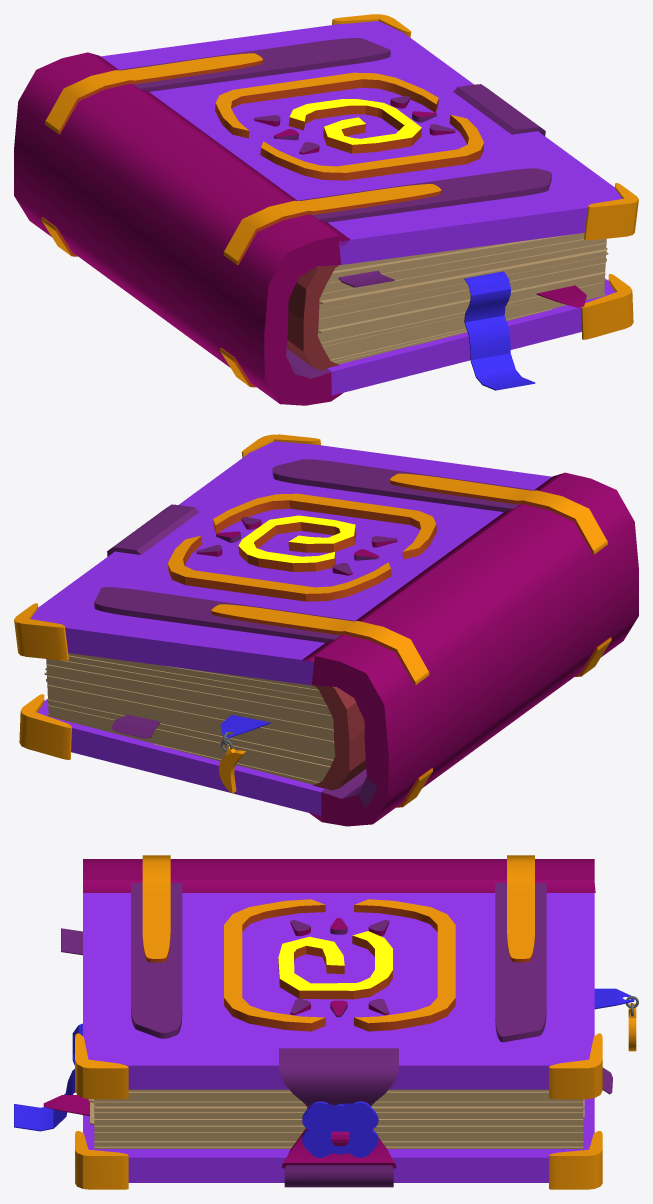
File: FireMagicBook.fbx
3 renders of one model, top to bottom at view 1: azimuth 30°, elevation 25°; view 2: azimuth 150°, elevation 25°; view 3: azimuth 270°, elevation 25°, orthographic. The views are drawn at different scales.
Visible parts, largest first — view 1: Cube, Cube.002, Plane.004, Plane.001, Plane.003, Cube.004, Plane, Plane.002, Cube.003, Plane.010, Cube.009, Plane.007 (+1 smaller); view 2: Cube, Cube.002, Plane.004, Plane.001, Plane.003, Cube.004, Plane.002, Cube.003, Plane.010, Cube.009, Plane.008, Cylinder.001 (+1 smaller); view 3: Cube, Cube.002, Plane.004, Cube.004, Plane.003, Plane.010, Plane.001, Plane.002, Plane.012, Plane.011, Plane.013, Plane (+5 smaller).
Part boxes in pixels (x1,y1,x2,y2): Cube: [14, 21, 622, 405]; Cube.002: [317, 233, 608, 364]; Plane.004: [117, 38, 551, 222]; Plane.001: [41, 53, 441, 387]; Plane.003: [215, 72, 484, 180]; Cube.004: [332, 14, 638, 339]; Plane: [464, 271, 535, 390]; Plane.002: [288, 99, 421, 153]; Cube.003: [286, 265, 339, 370]; Plane.010: [453, 84, 545, 135]; Cube.009: [254, 96, 455, 154]; Plane.007: [536, 285, 586, 307]; Cube: [30, 441, 638, 826]; Cube.002: [44, 653, 335, 784]; Plane.004: [94, 459, 534, 642]; Plane.001: [211, 473, 611, 807]; Plane.003: [167, 493, 436, 601]; Cube.004: [14, 434, 320, 759]; Plane.002: [238, 515, 356, 571]; Cube.003: [312, 685, 366, 790]; Plane.010: [107, 504, 199, 556]; Cube.009: [196, 517, 397, 575]; Plane.008: [111, 714, 160, 738]; Cylinder.001: [219, 746, 245, 793]; Cube: [83, 859, 595, 1182]; Cube.002: [88, 1089, 584, 1148]; Plane.004: [131, 883, 546, 1042]; Cube.004: [75, 1033, 602, 1189]; Plane.003: [224, 899, 455, 1031]; Plane.010: [279, 1048, 398, 1108]; Plane.001: [142, 855, 534, 962]; Plane.002: [278, 931, 392, 999]; Plane.012: [302, 1101, 378, 1157]; Plane.011: [284, 1165, 393, 1187]; Plane.013: [282, 1128, 396, 1168]; Plane: [14, 1023, 82, 1131].
Bounding box in the file's own units: 257 × 111 × 357.
